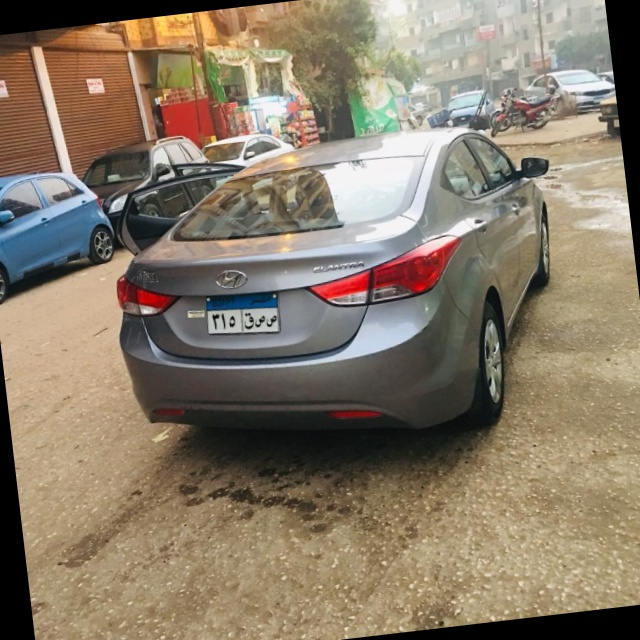License Plate: (200, 287, 283, 343)
